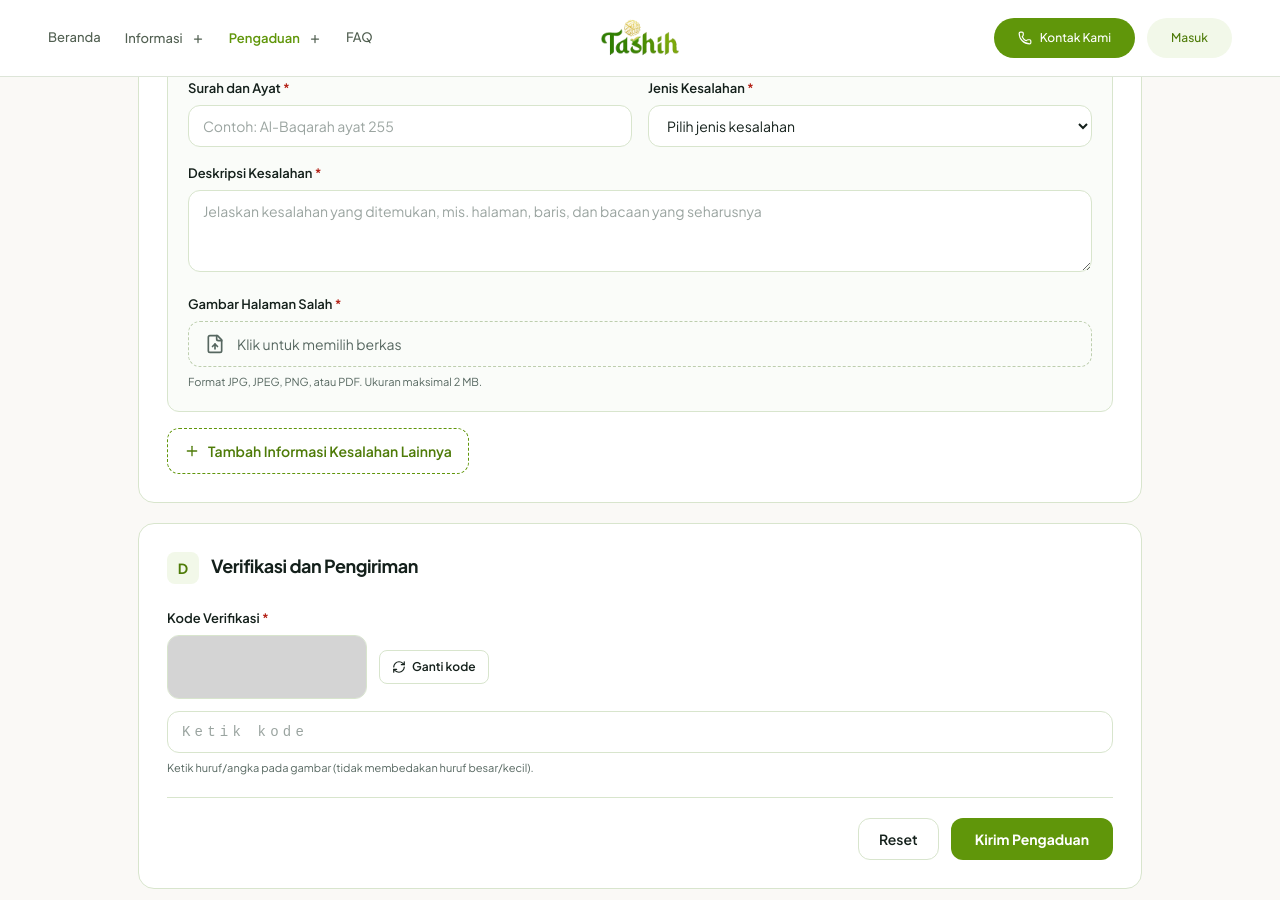
Test case: PrintErrorComplaintPage › menampilkan judul, bagian formulir, dan dapat menambah/menghapus informasi kesalahan
Later steps or results of the test are not shown.
(page scrolled)
Expected: the heading "Verifikasi dan Pengiriman" is shown, [211,552,418,580]
Click the button "Tambah Informasi Kesalahan Lainnya" at [318, 450], box [167,428,469,474]
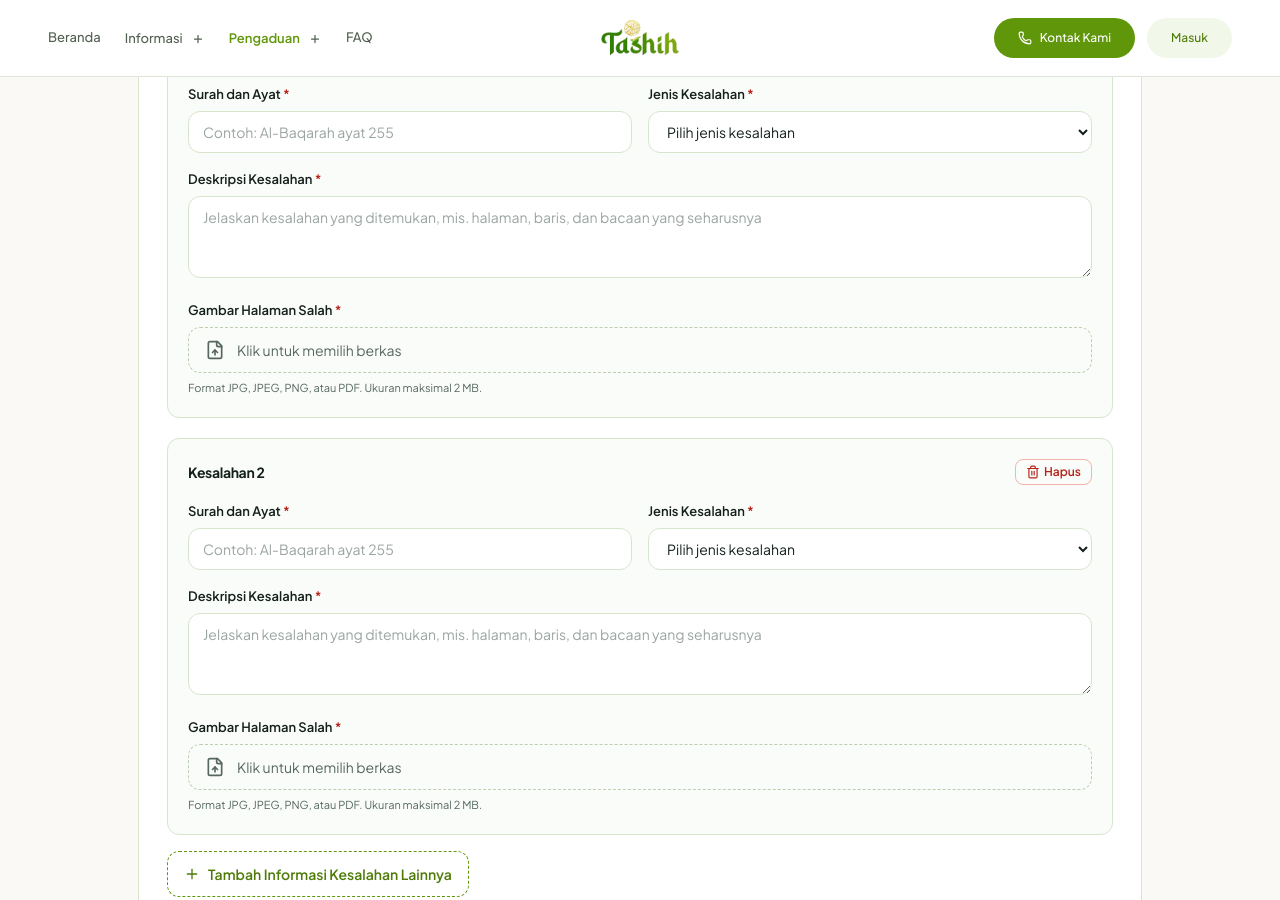
Expected: the list item with aria-label "Informasi kesalahan 2" is shown, [167,438,1113,834]
